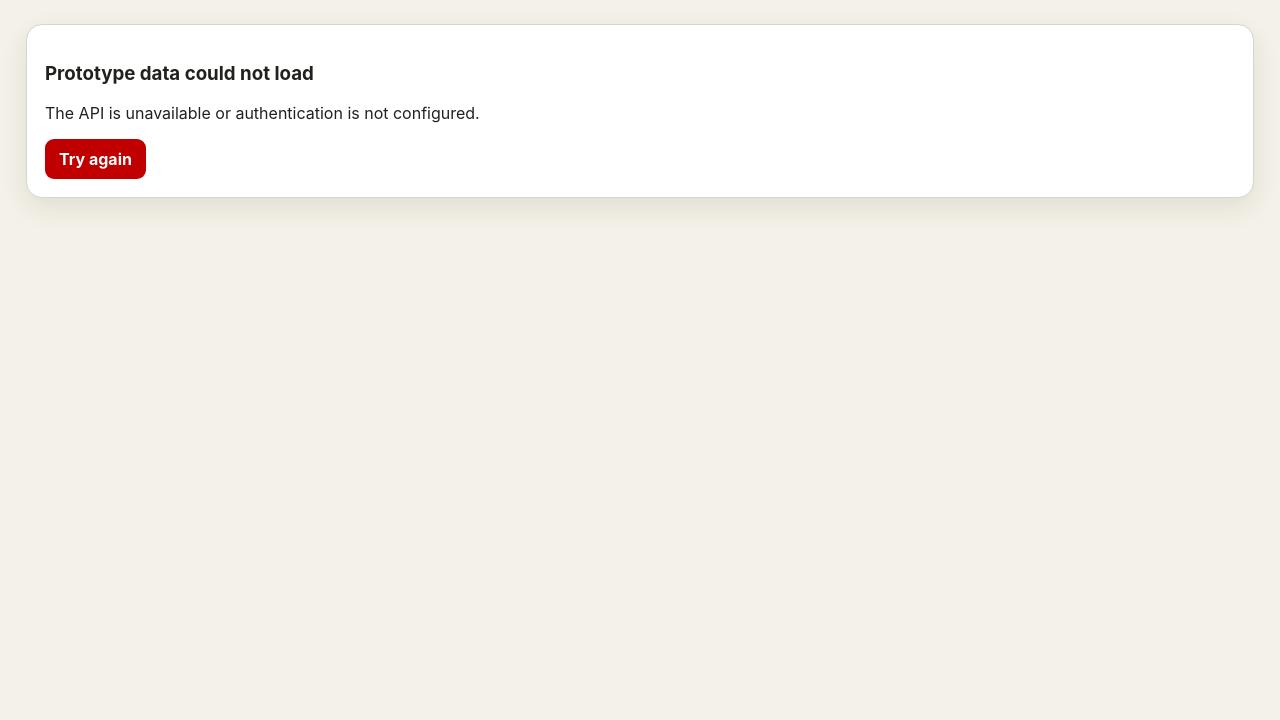
Test: Depot Readiness React UI › offers a recoverable error state when the API is unavailable
Expected: the message shows "Prototype data could not load", [45,62,314,85]
Click the button "Try again" at (96, 159), box [45,139,146,179]
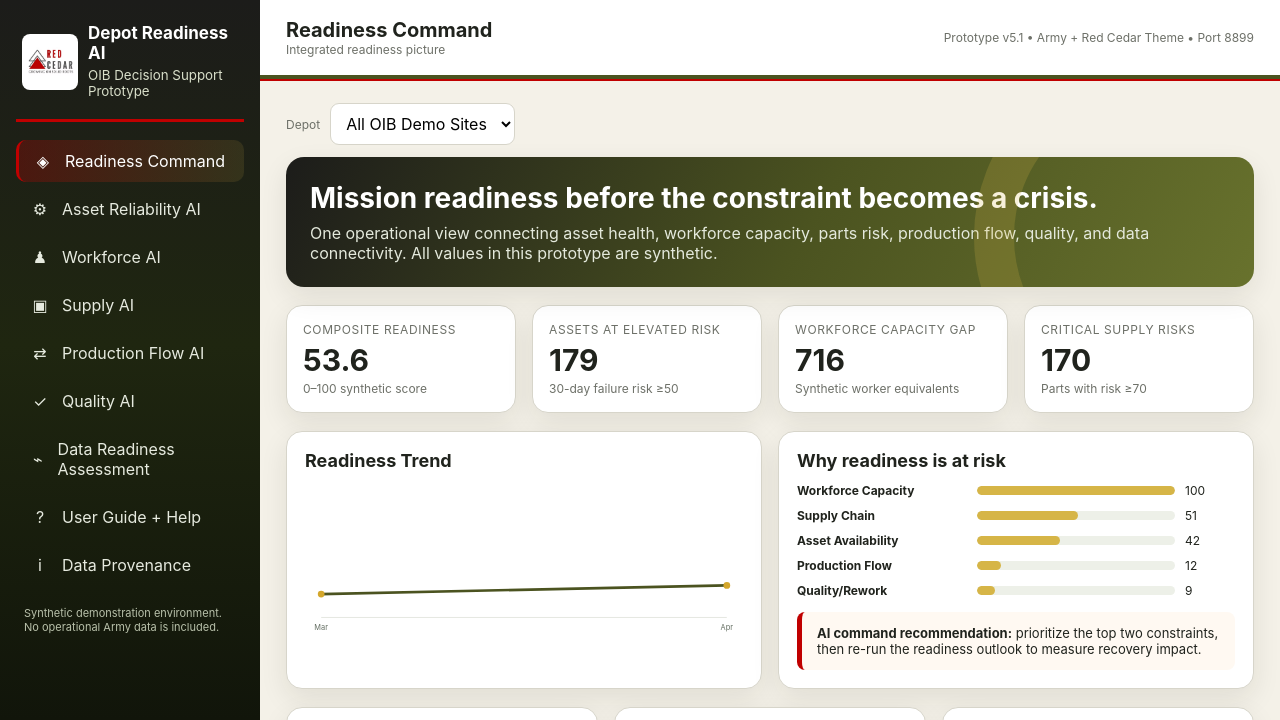
Expected: the heading "Mission readiness before the constraint becomes a crisis." is shown, [310,181,1230,215]
